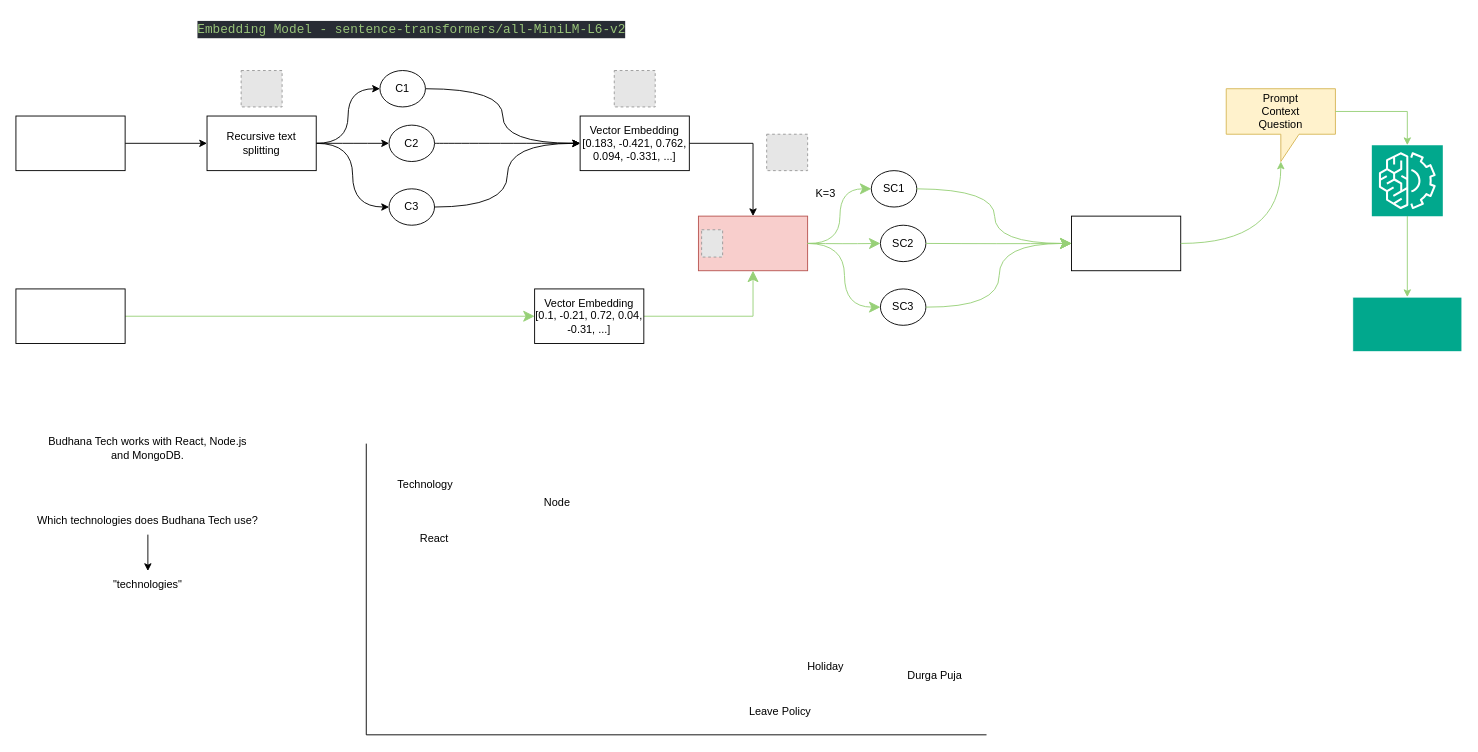
The diagram is 1478 pixels wide and 752 high, and some of its shapes have lost their labels. Grey dashed boxes stand in for pictures. The box of each missing label's shape, as (x1, y1, x2, y2) in pixels:
ANSWER: (1352, 296, 1462, 352)
Context: (1071, 215, 1181, 271)
PDF /TEXT File: (15, 115, 125, 171)
Question: (15, 288, 125, 344)
Vector DB - ChromaDB: (698, 215, 808, 271)
